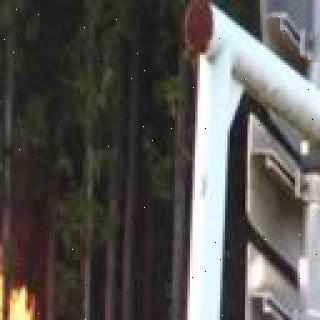fire: (0, 113, 41, 320)
